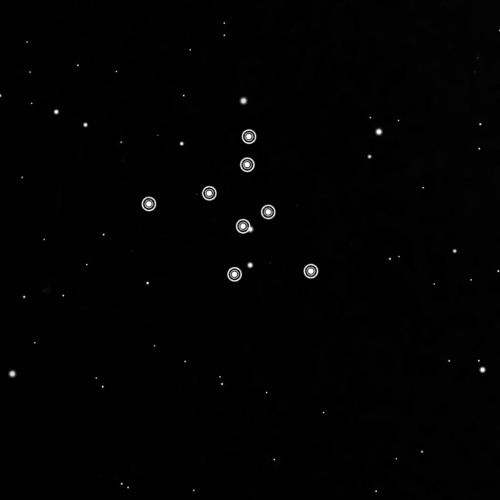hercules: (137, 125, 322, 287)
